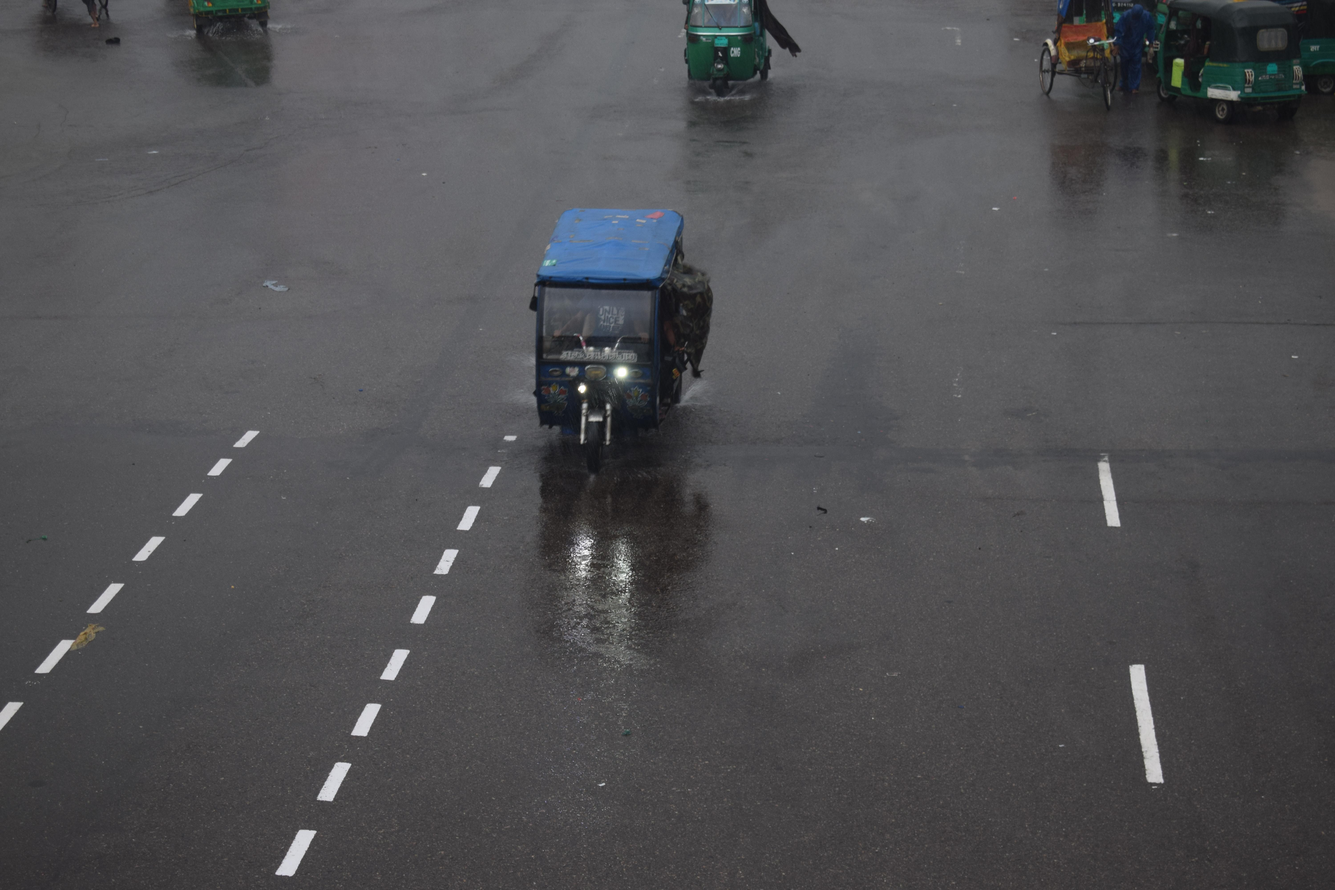Car: (449, 152, 768, 522), (1022, 0, 1147, 121)
